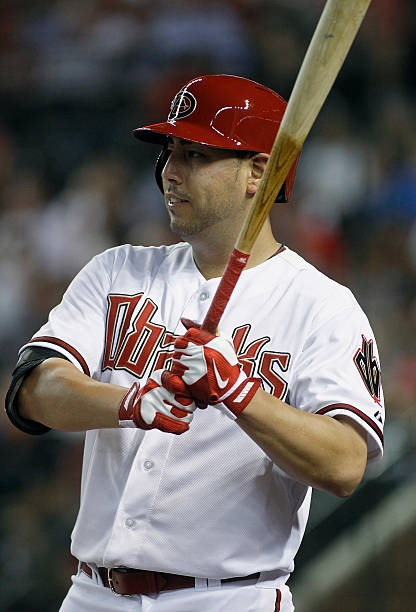bita: (161, 1, 369, 405)
